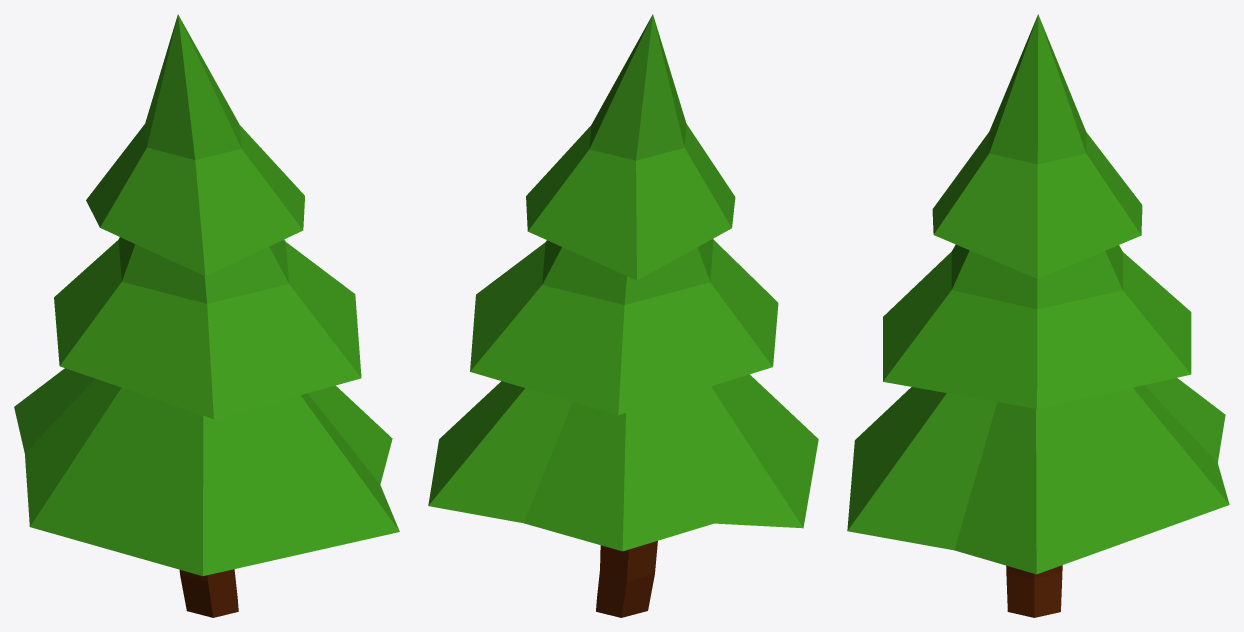
Rendered from tree_pine_04.FBX.
3 renders of one model, left to right at view 1: azimuth 30°, elevation 25°; view 2: azimuth 150°, elevation 25°; view 3: azimuth 270°, elevation 25°, orthographic. The views are drawn at different scales.
Parts seen in each view (by area): view 1: tree_pine_04; view 2: tree_pine_04; view 3: tree_pine_04.
Boxes of the visible parts, <box> form: tree_pine_04: <box>14,14,399,617</box>; tree_pine_04: <box>428,14,818,617</box>; tree_pine_04: <box>847,14,1229,617</box>.
Bounding box in the file's own units: 130 × 204 × 123.
